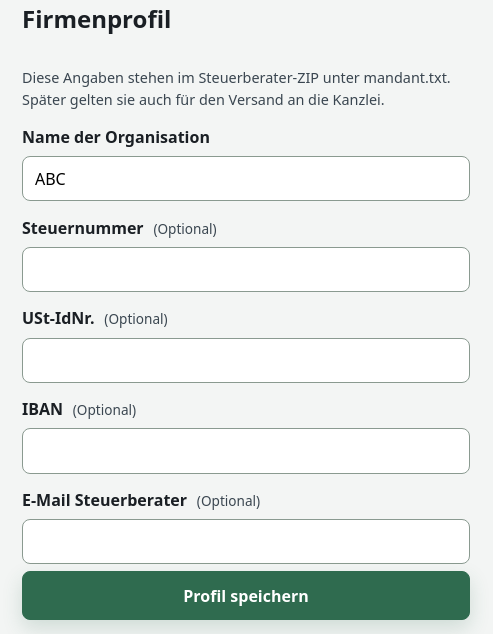
OrgSettingsPage › shows field errors next to invalid USt-IdNr and IBAN
The width and height of the screenshot is (493, 634).
(page scrolled)
Check: the field showing "ABC" is shown, box [22,156,470,201]
Type "123" into the field labelled "USt-IdNr. (Optional)" at (246, 360), box [22,338,470,383]
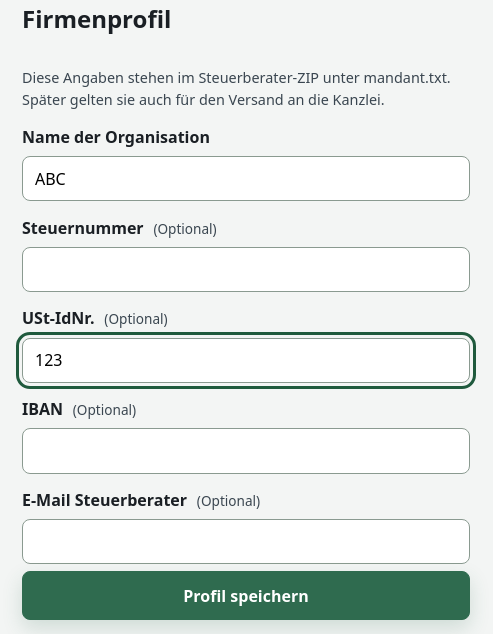
Type "TEST12345" into the field labelled "IBAN (Optional)" at (246, 451), box [22,428,470,474]
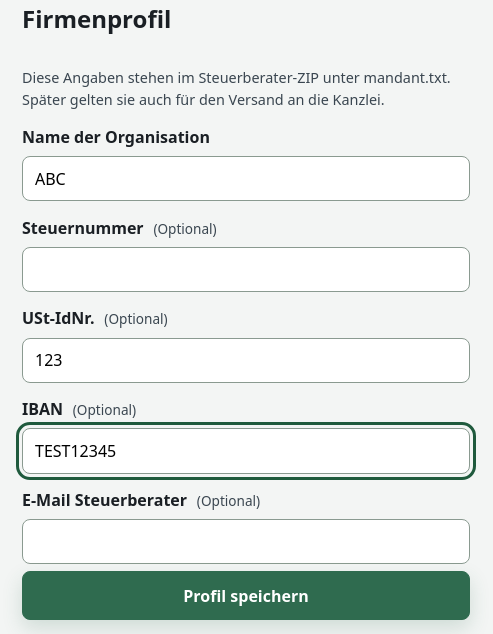
Click the button "Profil speichern" at (246, 596), box [22,572,470,620]
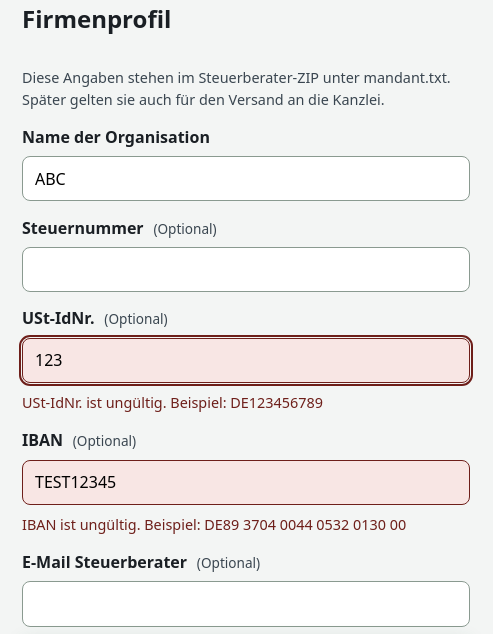
Check: the text "USt-IdNr. ist ungültig. Beispiel: DE123456789" is shown, box [22,393,323,412]
Check: the text "IBAN ist ungültig. Beispiel: DE89 3704 0044 0532 0130 00" is shown, box [22,514,470,536]
